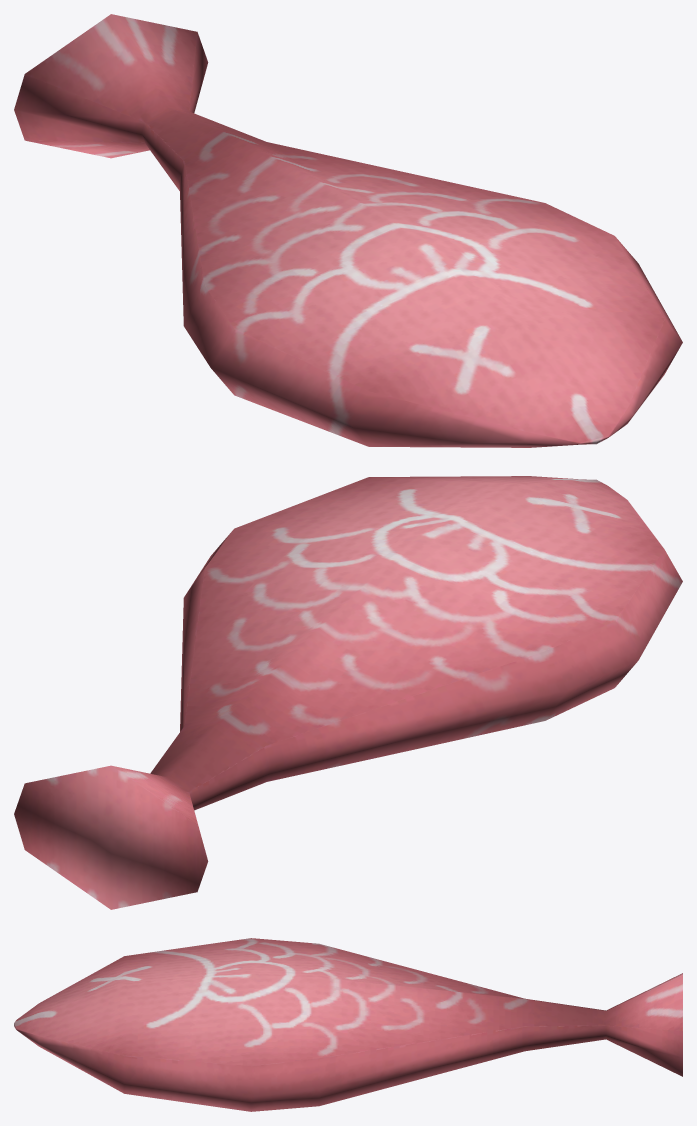
File: M_FishmaceA_4.glb
3 renders of one model, top to bottom at view 1: azimuth 30°, elevation 25°; view 2: azimuth 150°, elevation 25°; view 3: azimuth 270°, elevation 25°, orthographic. The views are drawn at different scales.
Parts seen in each view (by area): view 1: SM_FishmaceA; view 2: SM_FishmaceA; view 3: SM_FishmaceA.
Boxes of the visible parts, x1,y1,x2,y2 form: SM_FishmaceA: [14, 14, 682, 447]; SM_FishmaceA: [14, 476, 682, 909]; SM_FishmaceA: [14, 938, 682, 1111].
Bounding box in the file's own units: 0.452 × 0.1457 × 0.8884.
Materials: 1 (1 with a texture image).
